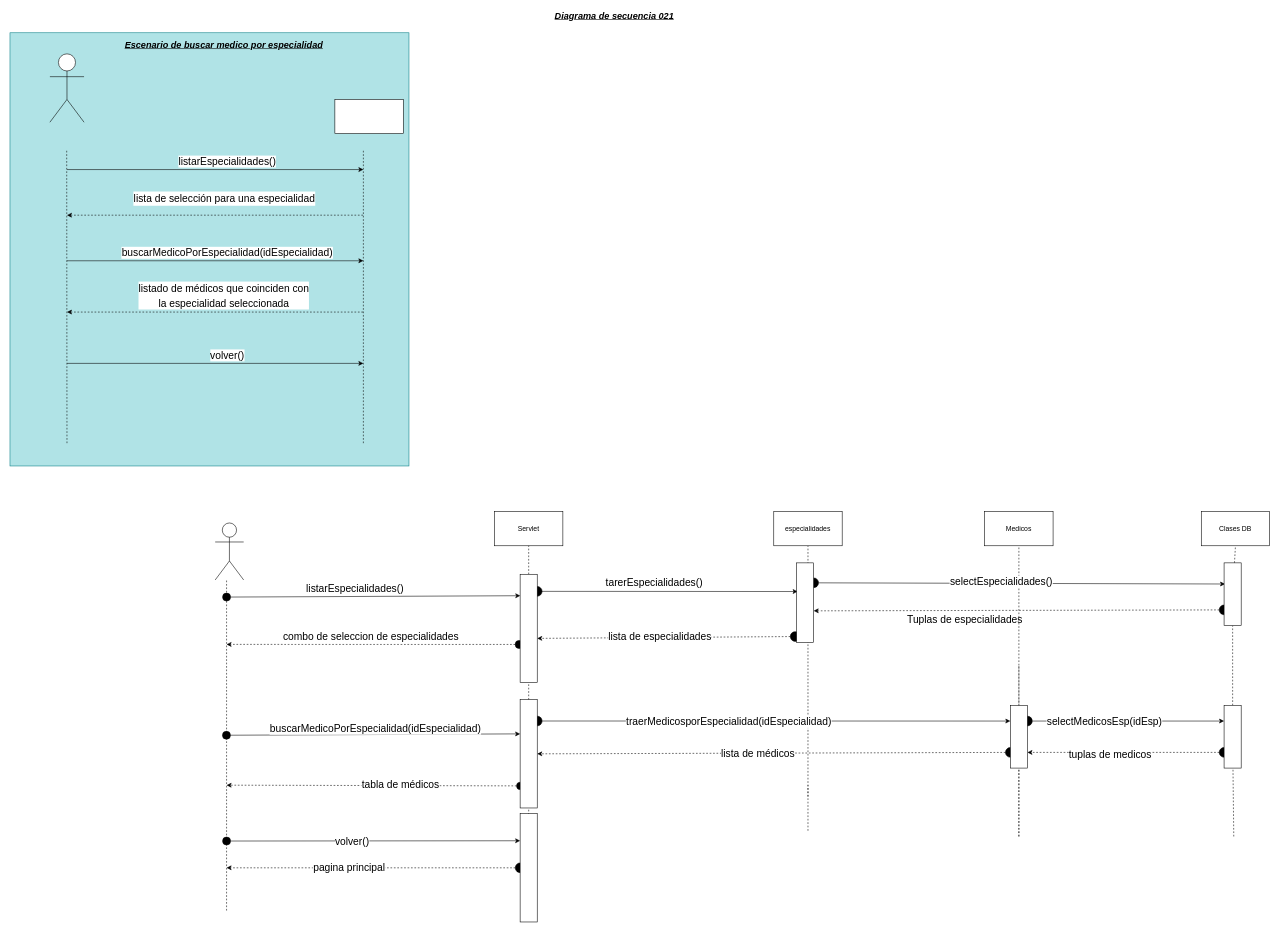
Image size: 1280x932. Some labels were removed from this diagram. The centre of each missing label's shape, as x and y in pixels:
:Paciente: (x=66, y=87)
:Sistema: (x=368, y=116)
